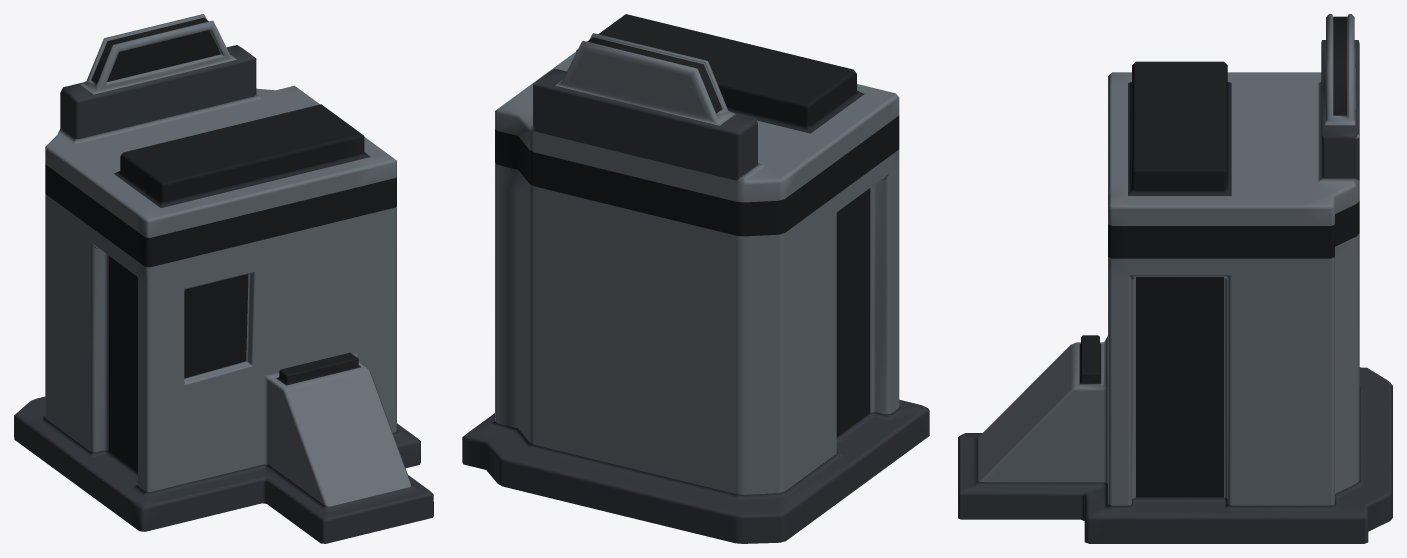
The model's file is booth.fbx.
3 views of the same model, side by side, from view 1: azimuth 30°, elevation 25°; view 2: azimuth 150°, elevation 25°; view 3: azimuth 270°, elevation 25° (orthographic). The views are drawn at different scales.
Visible parts, largest first — view 1: Cube.003; view 2: Cube.003; view 3: Cube.003.
Boxes of the visible parts, box(x1,y1,x2,y2) form: Cube.003: box(14, 14, 433, 543); Cube.003: box(462, 14, 929, 543); Cube.003: box(958, 14, 1392, 543).
Bounding box in the file's own units: 195 × 255 × 237.
